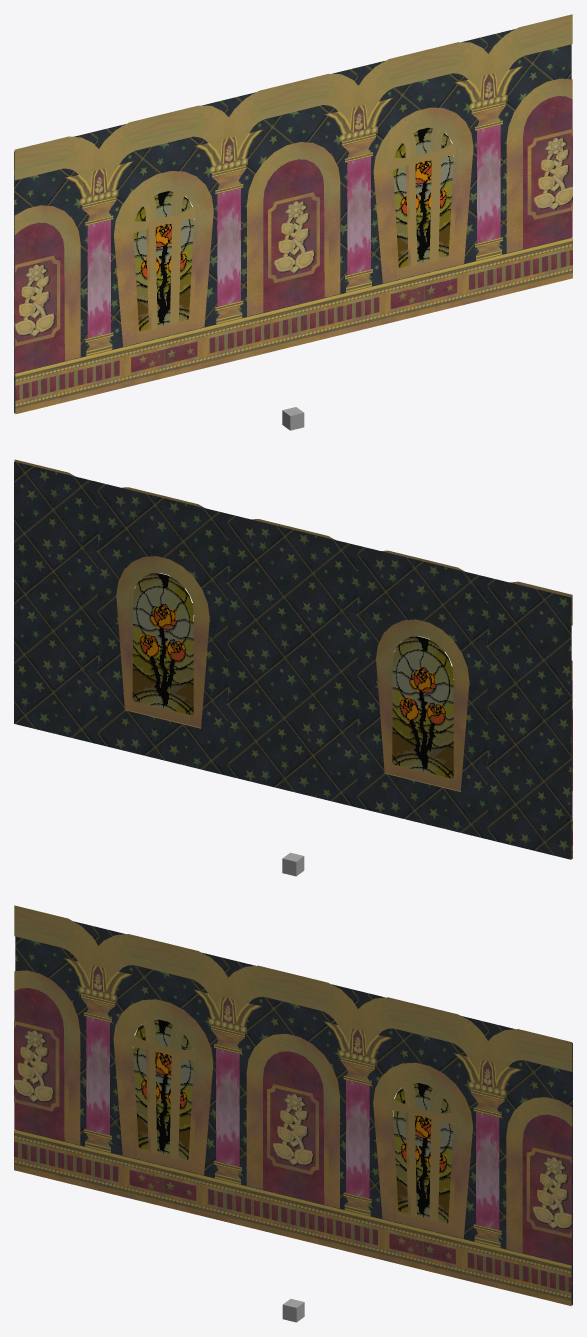
File: paredPalacio.gltf
The picture shows the model from 3 angles, top to bottom: view 1: azimuth 30°, elevation 25°; view 2: azimuth 150°, elevation 25°; view 3: azimuth 330°, elevation 25°; orthographic projection.
Parts seen in each view (by area): view 1: S_hasi, S_hasi_03_part0, S_hasi_03_part1, S_hasi_07_part1, S_hasi_06_part1, S_hasi_08_part1, S_hasi_08_part2, S_hasi_07_part2, S_hasi_08_part0, S_hasi_06_part0, S_hasi_07_part0, S_hasi_08_part3 (+1 smaller); view 2: S_hasi; view 3: S_hasi, S_hasi_03_part0, S_hasi_03_part1, S_hasi_07_part1, S_hasi_06_part1, S_hasi_08_part1, S_hasi_08_part2, S_hasi_07_part2, S_hasi_08_part0, S_hasi_06_part0, S_hasi_07_part0, S_hasi_08_part3 (+1 smaller).
Part boxes in pixels (x1=…): S_hasi: x1=14, y1=14, x2=572, y2=413; S_hasi_03_part0: x1=14, y1=78, x2=572, y2=360; S_hasi_03_part1: x1=14, y1=96, x2=572, y2=373; S_hasi_07_part1: x1=87, y1=125, x2=500, y2=337; S_hasi_06_part1: x1=15, y1=133, x2=572, y2=342; S_hasi_08_part1: x1=15, y1=246, x2=572, y2=414; S_hasi_08_part2: x1=15, y1=237, x2=572, y2=408; S_hasi_07_part2: x1=65, y1=66, x2=522, y2=356; S_hasi_08_part0: x1=15, y1=250, x2=572, y2=400; S_hasi_06_part0: x1=15, y1=129, x2=572, y2=346; S_hasi_07_part0: x1=82, y1=106, x2=505, y2=350; S_hasi_08_part3: x1=131, y1=278, x2=457, y2=372; S_hasi: x1=14, y1=459, x2=572, y2=859; S_hasi: x1=14, y1=905, x2=572, y2=1305; S_hasi_03_part0: x1=14, y1=970, x2=572, y2=1252; S_hasi_03_part1: x1=14, y1=988, x2=572, y2=1264; S_hasi_07_part1: x1=86, y1=1016, x2=499, y2=1229; S_hasi_06_part1: x1=14, y1=1025, x2=571, y2=1234; S_hasi_08_part1: x1=14, y1=1138, x2=571, y2=1306; S_hasi_08_part2: x1=14, y1=1129, x2=571, y2=1300; S_hasi_07_part2: x1=64, y1=958, x2=521, y2=1247; S_hasi_08_part0: x1=14, y1=1141, x2=571, y2=1292; S_hasi_06_part0: x1=14, y1=1021, x2=571, y2=1238; S_hasi_07_part0: x1=81, y1=997, x2=504, y2=1242; S_hasi_08_part3: x1=129, y1=1170, x2=455, y2=1264.
Size of the model in its own units: 40.03 by 23.63 by 1.
Materials: 10 (9 with a texture image).
